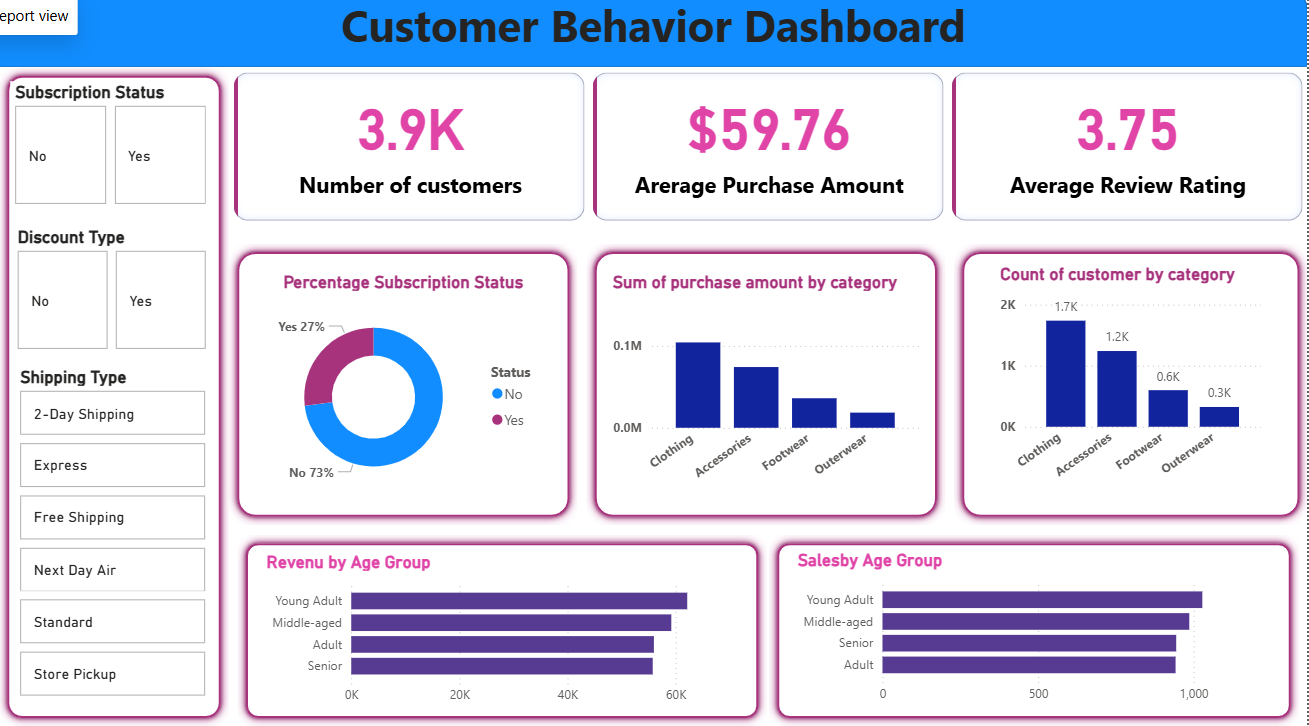

This screenshot's page, from the dashboard's own definition file:
{"tool":"powerbi","page":{"name":"Page 1","canvas":[1280,720],"ordinal":0},"visuals":[{"type":"cardVisual","fields":{"Data":["Query1.Number of customers","Query1.Arerage Purchase Amount","Query1.Average Review Rating"]},"box":[225,75.8,1055.3,155.3],"z":0},{"type":"shape","box":[0,0,1280.3,75.5],"z":1},{"type":"textbox","box":[0,0,1280.3,75.5],"z":2},{"type":"shape","box":[225,248.2,341.2,275.1],"z":3},{"type":"donutChart","title":" Percentage Subscription Status","fields":{"Category":["Query1.subscription_status"],"Y":["CountNonNull(Query1.customer_id)"]},"box":[247,275.1,297.1,227.4],"z":4},{"type":"shape","box":[574.7,248.2,351,275.1],"z":5},{"type":"shape","box":[934.2,248.2,346.1,275.1],"z":6},{"type":"clusteredColumnChart","title":"Sum of purchase amount by category","fields":{"Y":["Sum(Query1.purchase_amount)"],"Category":["Query1.category"]},"box":[595.5,275.1,310.6,221.3],"z":7},{"type":"clusteredColumnChart","title":"Count of customer by category","fields":{"Category":["Query1.category"],"Y":["CountNonNull(Query1.customer_id)"]},"box":[974.6,267.8,265.4,228.7],"z":8},{"type":"shape","box":[0,75.8,225,644.4],"z":9},{"type":"advancedSlicerVisual","title":"Subscription Status","fields":{"Values":["Query1.subscription_status"]},"box":[11,89.3,196.9,126],"z":10},{"type":"advancedSlicerVisual","title":"Discount Type","fields":{"Values":["Query1.discount_applied"]},"box":[13.5,231.1,194.4,126],"z":11},{"type":"advancedSlicerVisual","title":"Shipping Type","fields":{"Values":["Query1.shipping_type"]},"box":[15.9,368.1,192,328.9],"z":12},{"type":"shape","box":[753.3,533.2,518.5,187.1],"z":13},{"type":"shape","box":[233.6,533.2,517.3,187.1],"z":14},{"type":"clusteredBarChart","title":"Revenu by Age Group","fields":{"Category":["Query1.age_group"],"Y":["Sum(Query1.purchase_amount)"]},"box":[256.8,549.1,473.2,159],"z":15},{"type":"clusteredBarChart","title":"Salesby Age Group","fields":{"Category":["Query1.age_group"],"Y":["CountNonNull(Query1.customer_id)"]},"box":[776.5,547.8,473.2,159],"z":16}]}

Visuals, with their boxes in screenshot pixels (x1, y1, x2, y2):
cardVisual - Query1.Number of customers x Query1.Arerage Purchase Amount: [232,65,1308,225]
shape: [0,0,1308,64]
textbox: [0,0,1308,64]
shape: [232,242,584,526]
" Percentage Subscription Status" donutChart: [255,270,561,504]
shape: [593,242,954,526]
shape: [963,242,1308,526]
"Sum of purchase amount by category" clusteredColumnChart: [614,270,934,498]
"Count of customer by category" clusteredColumnChart: [1005,262,1279,498]
shape: [0,65,232,725]
"Subscription Status" advancedSlicerVisual: [11,78,214,208]
"Discount Type" advancedSlicerVisual: [14,225,214,355]
"Shipping Type" advancedSlicerVisual: [16,366,214,705]
shape: [777,536,1308,725]
shape: [241,536,774,725]
"Revenu by Age Group" clusteredBarChart: [265,553,753,716]
"Salesby Age Group" clusteredBarChart: [801,551,1289,715]
